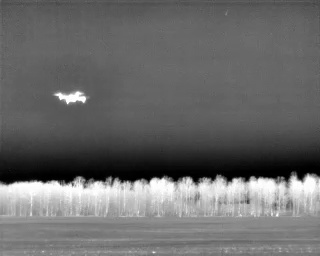DRONE: (51, 86, 93, 109)
